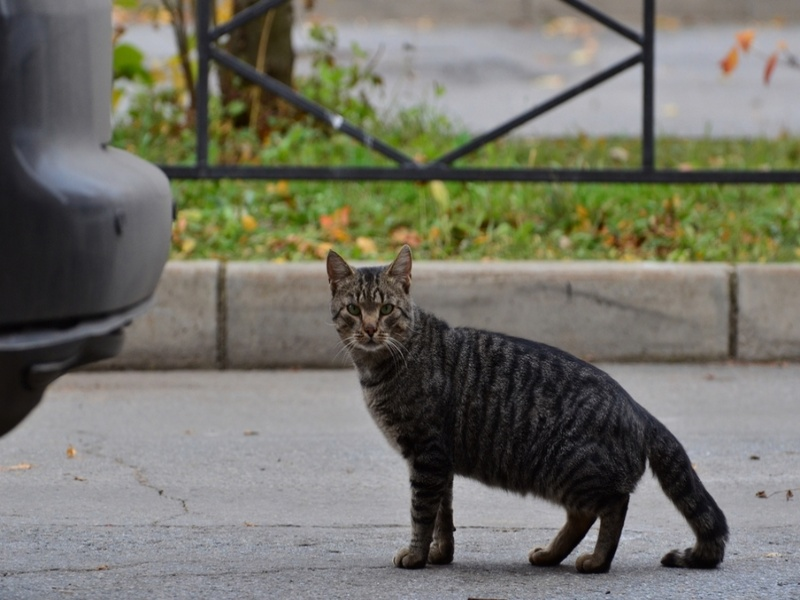cat: (324, 247, 729, 577)
